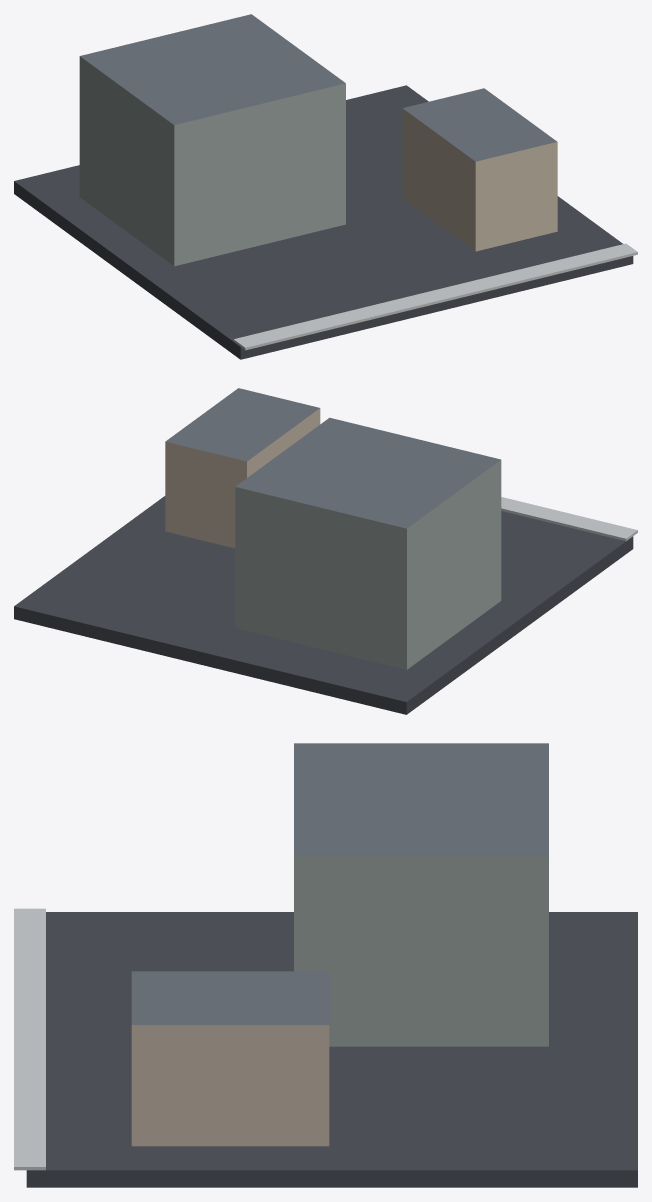
The picture shows the model from 3 angles, top to bottom: view 1: azimuth 30°, elevation 25°; view 2: azimuth 150°, elevation 25°; view 3: azimuth 270°, elevation 25°; orthographic projection. The views are drawn at different scales.
Visible parts, largest first — view 1: b39_v2_lod2; view 2: b39_v2_lod2; view 3: b39_v2_lod2.
Boxes of the visible parts, x1,y1,x2,y2 form: b39_v2_lod2: (14, 14, 637, 359); b39_v2_lod2: (14, 388, 637, 714); b39_v2_lod2: (14, 743, 637, 1187).
Size of the model in its own units: 0.96 by 0.36 by 0.98.
